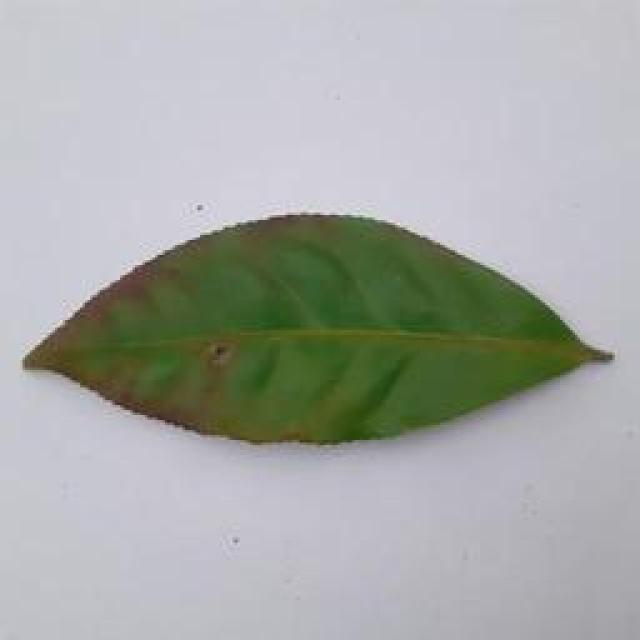Red Leaf Spot: (25, 200, 640, 452)
